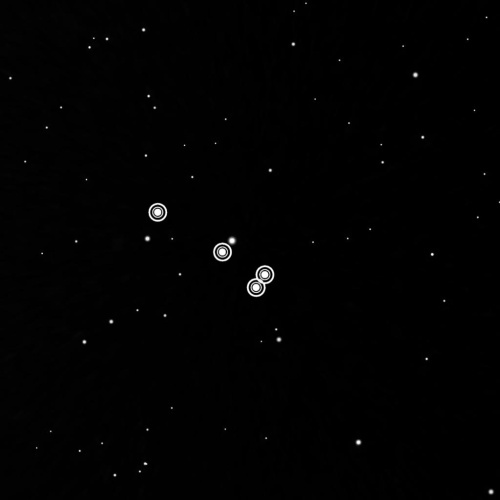sagitta: (142, 197, 284, 306)
